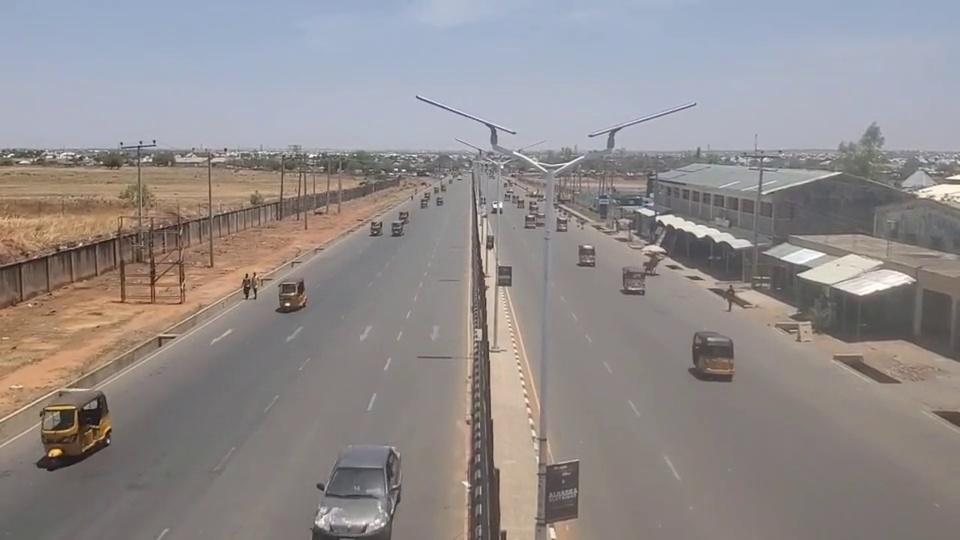car: (312, 444, 402, 538)
keke: (38, 387, 112, 460), (691, 331, 735, 379), (278, 278, 306, 311), (578, 244, 596, 267), (369, 220, 383, 236), (391, 220, 404, 236)
